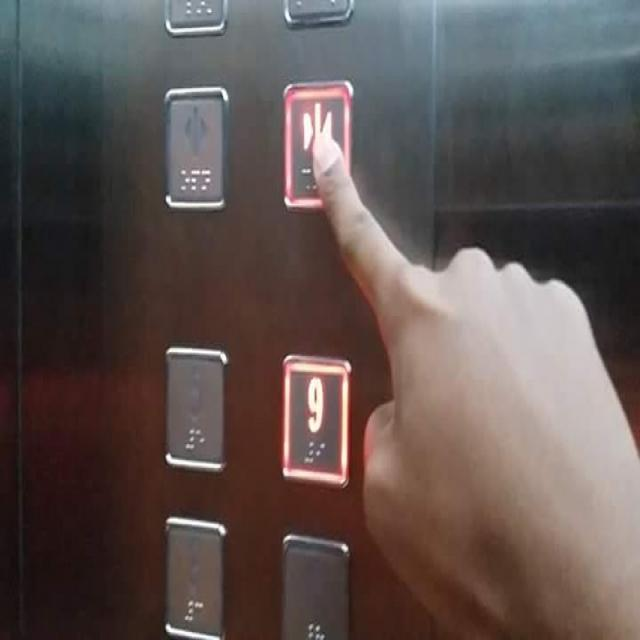5: (154, 335, 232, 484)
9: (276, 345, 354, 495)
close: (276, 69, 354, 219)
open: (156, 73, 233, 223)
